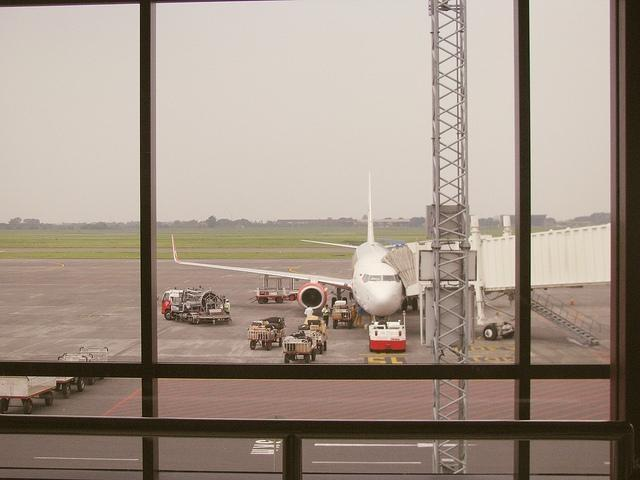truck: (161, 285, 230, 324), (246, 316, 286, 352), (283, 324, 318, 364), (332, 301, 354, 329)
